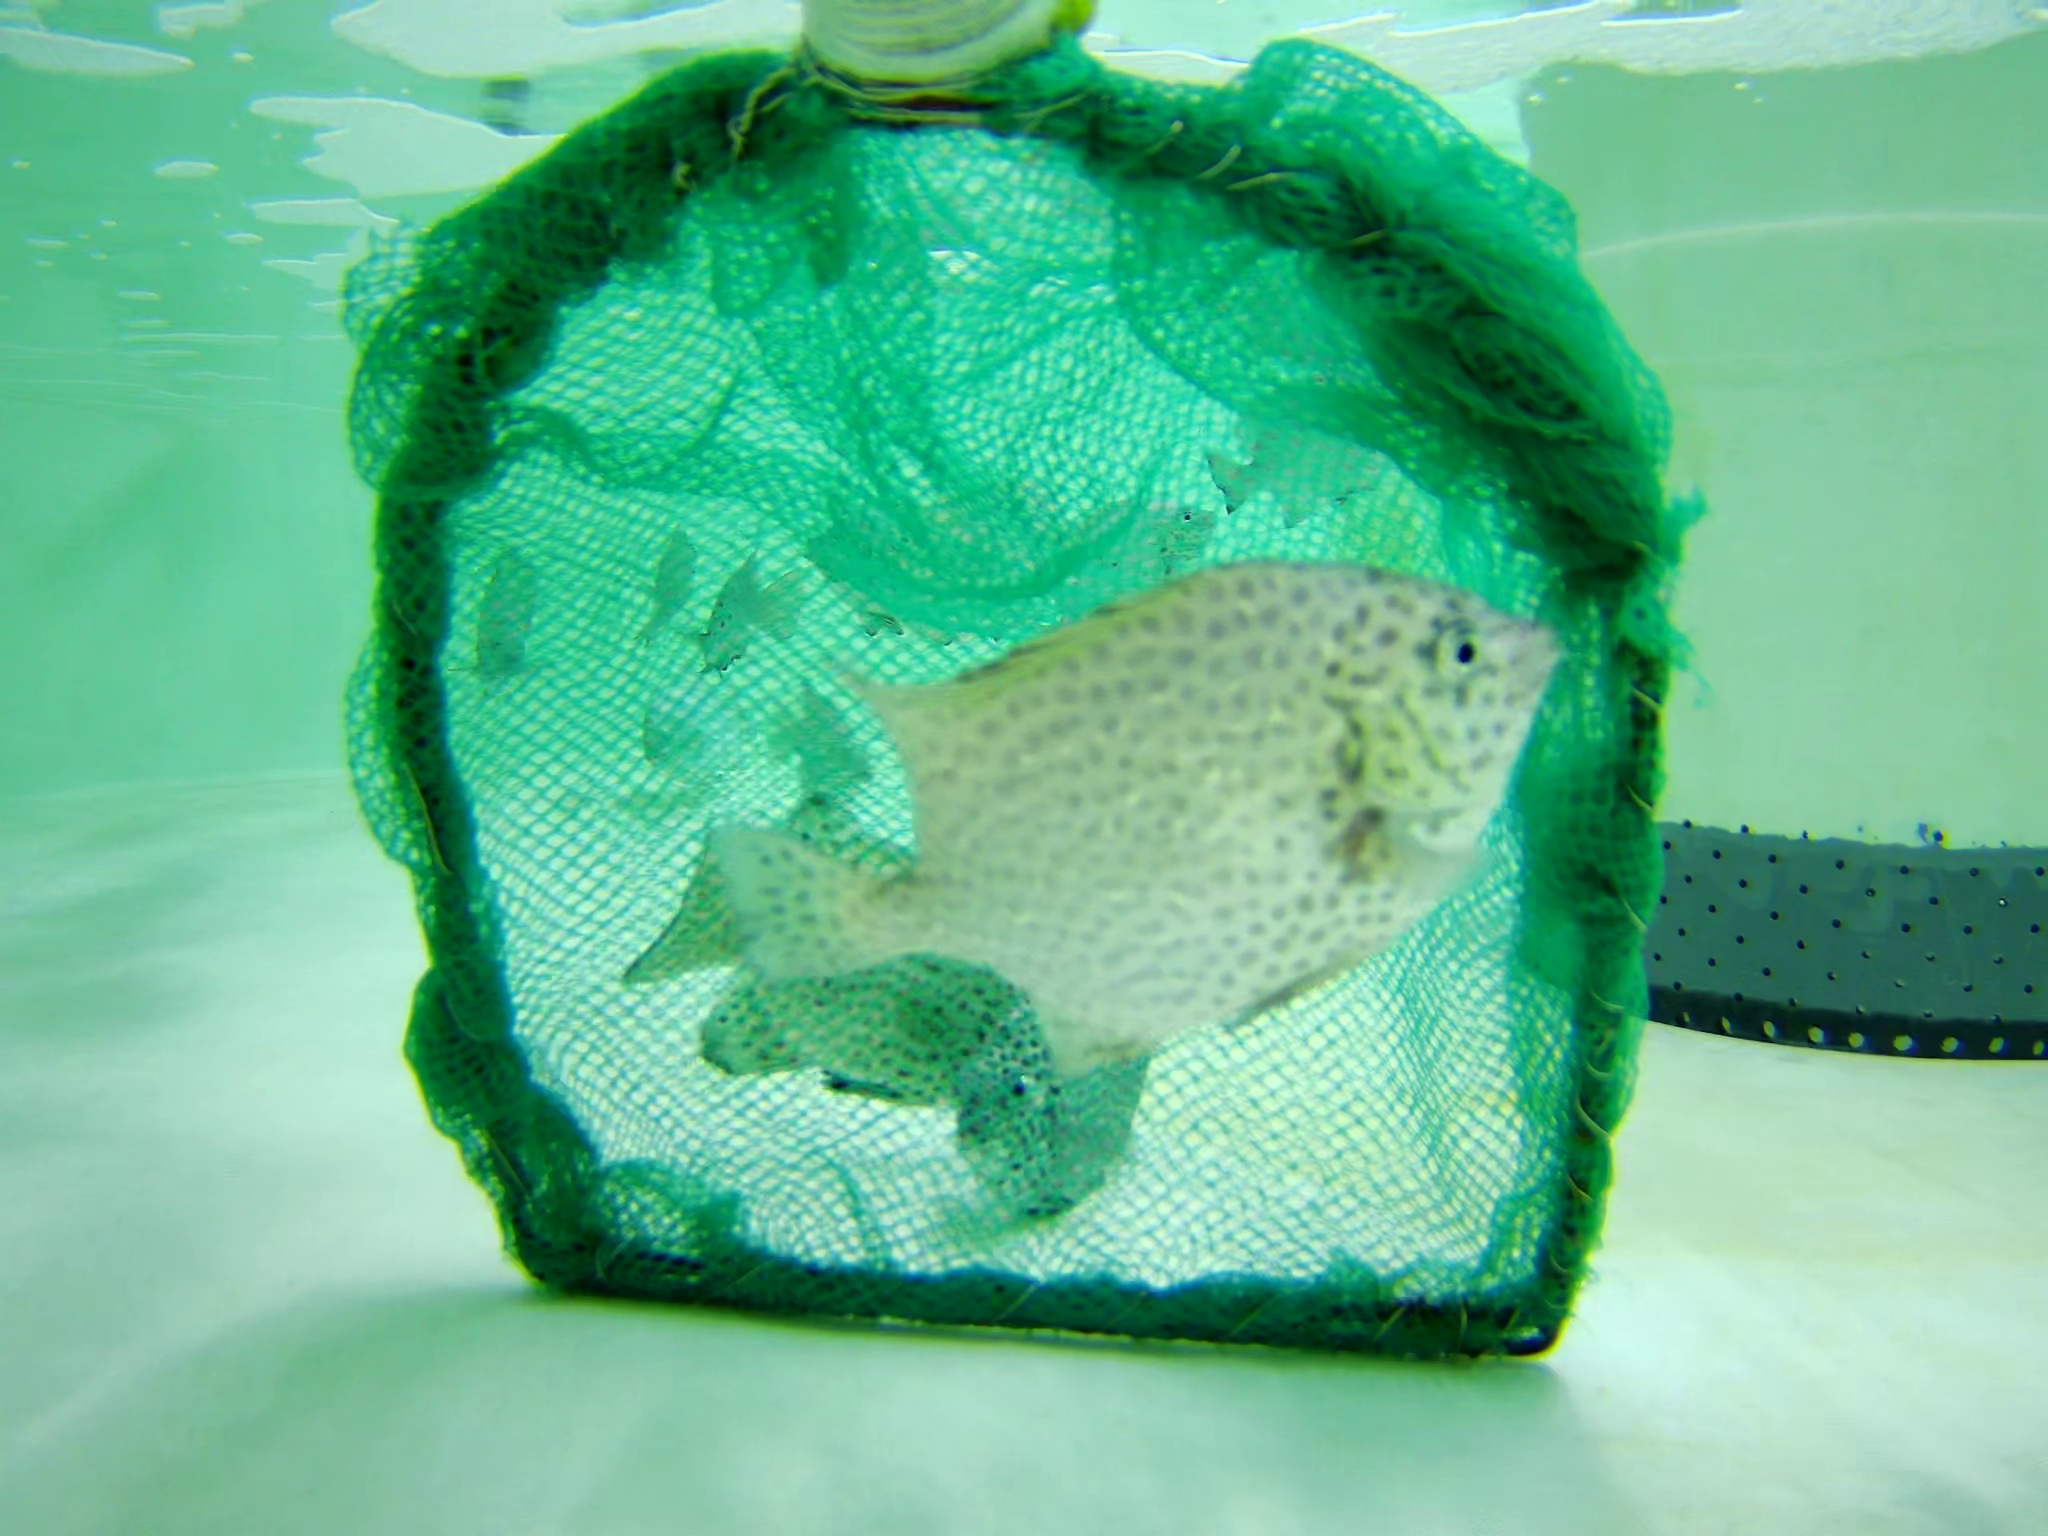fish: (703, 563, 1555, 1036), (692, 958, 1035, 1110), (953, 1002, 1097, 1220), (1037, 490, 1237, 623), (801, 497, 947, 645), (1206, 389, 1398, 497), (774, 691, 892, 816), (713, 563, 808, 673), (466, 541, 521, 720), (639, 684, 701, 789), (651, 516, 685, 678)
